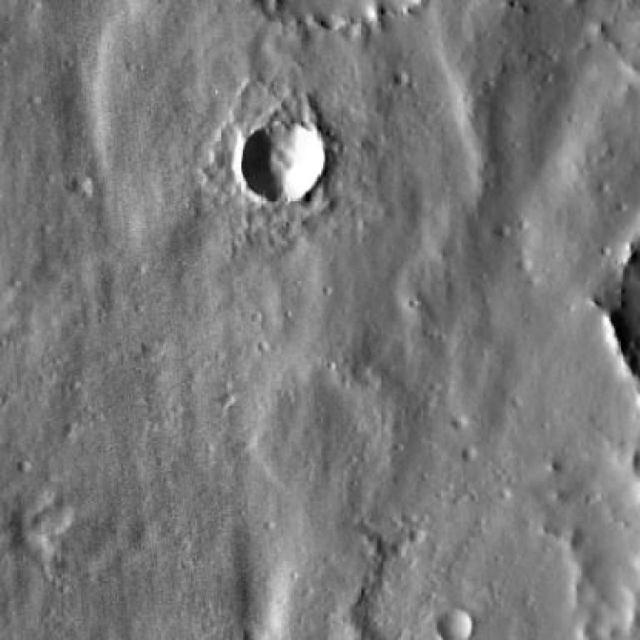crater: (247, 117, 330, 198), (37, 499, 72, 533), (440, 607, 474, 640), (66, 172, 91, 194)
